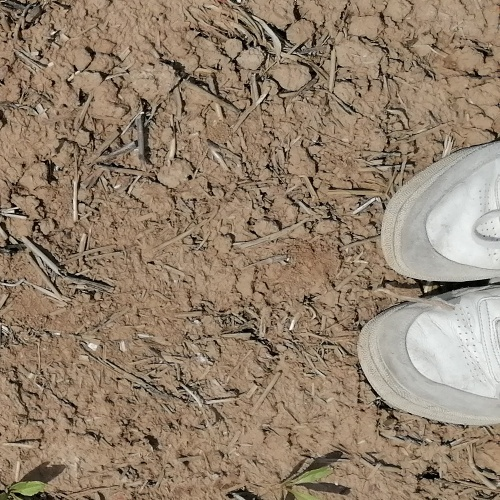beet: (279, 466, 337, 500), (0, 480, 54, 500)
